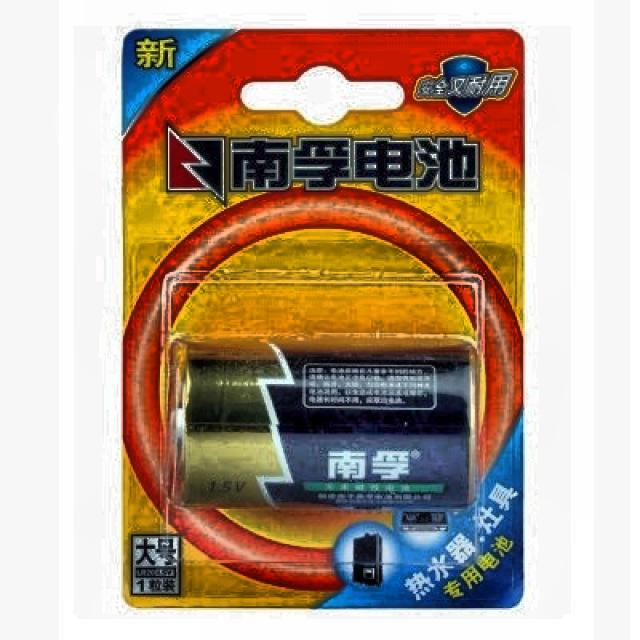Non-Valuable Waste - Batteries: (175, 354, 474, 508)
